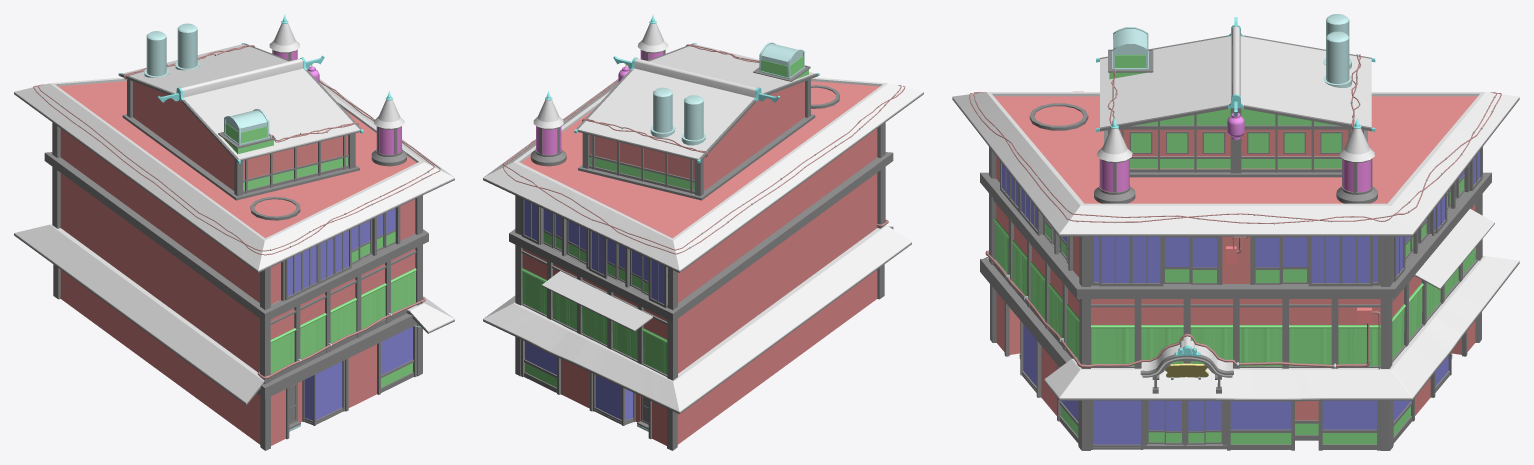
File: SM_ENV_KNVLLG03_AreaB_BuildingBa.gltf
3 renders of one model, left to right at view 1: azimuth 30°, elevation 25°; view 2: azimuth 150°, elevation 25°; view 3: azimuth 270°, elevation 25°, orthographic. The views are drawn at different scales.
Visible parts, largest first — view 1: SM_ENV_KNVLLG03_AreaB_BuildingBa; view 2: SM_ENV_KNVLLG03_AreaB_BuildingBa; view 3: SM_ENV_KNVLLG03_AreaB_BuildingBa.
Part boxes in pixels (x1,y1,x2,y2): SM_ENV_KNVLLG03_AreaB_BuildingBa: (14,14,454,450); SM_ENV_KNVLLG03_AreaB_BuildingBa: (483,14,923,450); SM_ENV_KNVLLG03_AreaB_BuildingBa: (952,14,1519,450).
Bounding box in the file's own units: 21.63 × 25.22 × 37.64.
